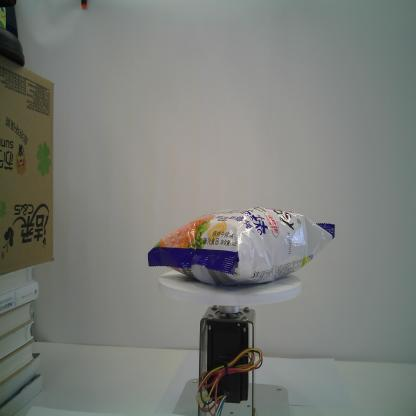Puffed Food: (147, 206, 336, 286)
